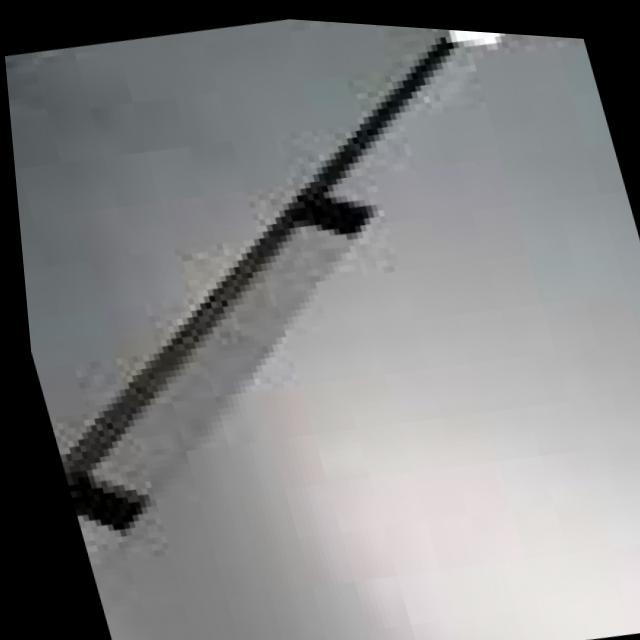metal-plates: (5, 16, 640, 640)
